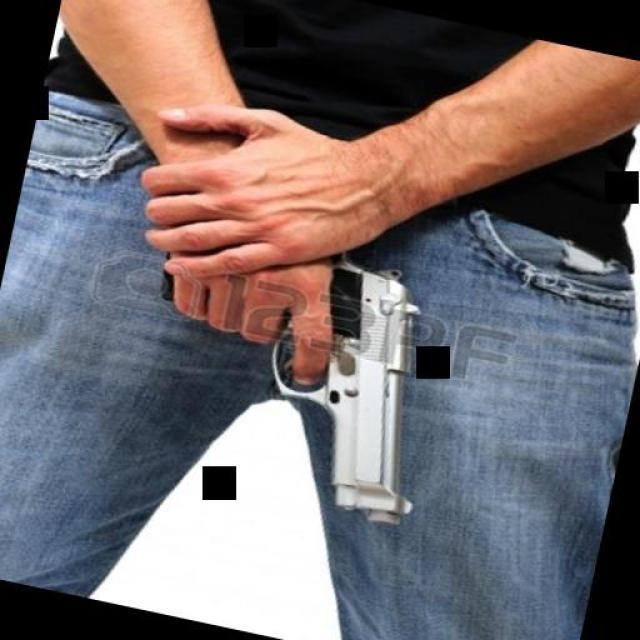gun: (113, 186, 465, 529)
